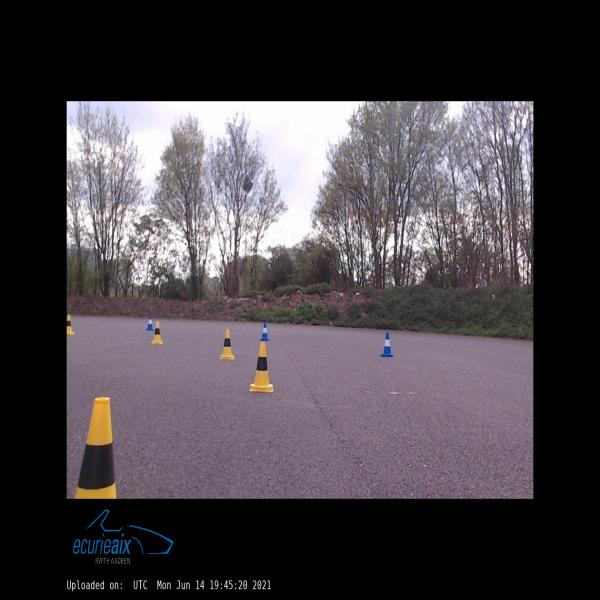blue_cone: (380, 333, 393, 357), (261, 323, 269, 339), (146, 314, 154, 329)
yellow_cone: (74, 398, 116, 498), (250, 342, 274, 392), (220, 329, 235, 359), (151, 321, 163, 344), (67, 314, 73, 334)
